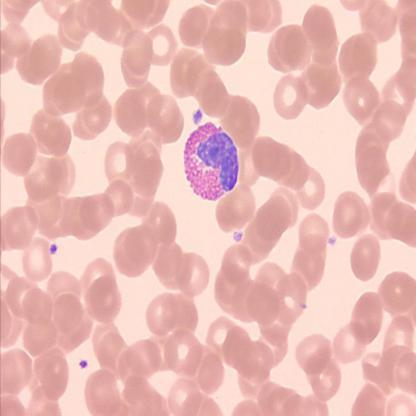Eosinophil: (185, 122, 240, 201)
